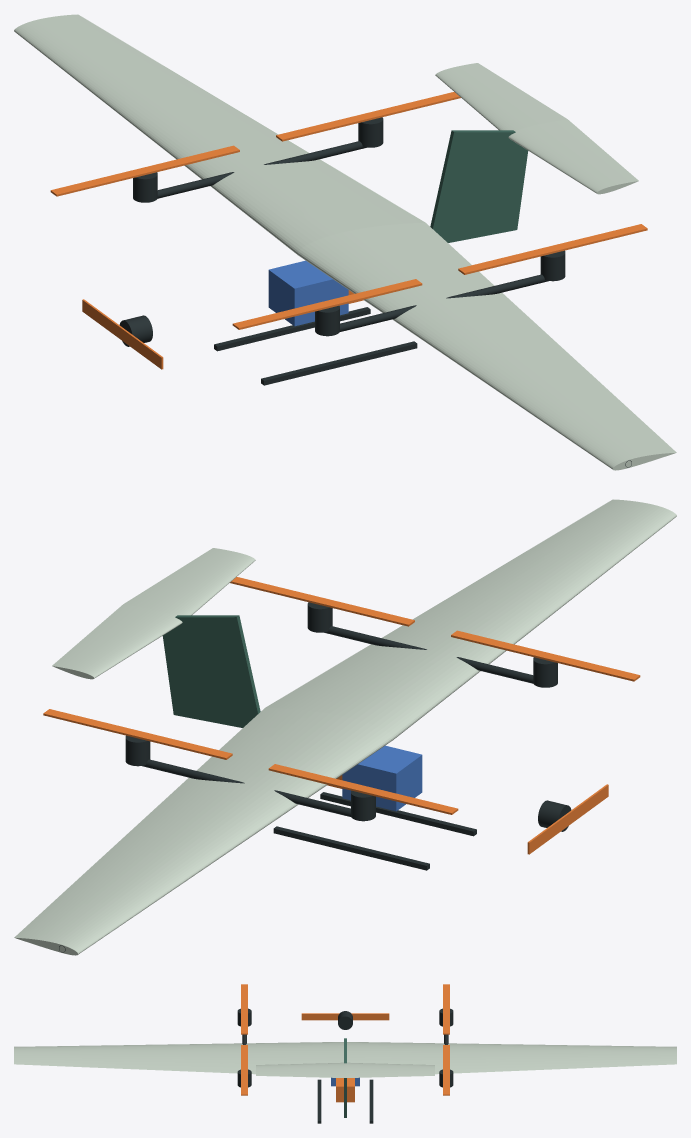
Rendered from 07-internal.glb.
The picture shows the model from 3 angles, top to bottom: view 1: azimuth 30°, elevation 25°; view 2: azimuth 150°, elevation 25°; view 3: azimuth 270°, elevation 25°; orthographic projection. The views are drawn at different scales.
Parts seen in each view (by area): view 1: wing-1, wing1, fin, tail-1, tail1, payload, prop_-1_200.0, prop_1_200.0, prop_-1_700.0, prop_1_700.0, boom-1, boom1 (+7 smaller); view 2: wing1, wing-1, fin, tail1, tail-1, payload, prop_1_200.0, prop_-1_200.0, prop_1_700.0, prop_-1_700.0, boom-1, boom1 (+7 smaller); view 3: wing-1, wing1, tail-1, tail1, cruise_prop, battery, prop_-1_200.0, prop_-1_700.0, prop_1_200.0, prop_1_700.0, cruise_motor.
Boxes of the visible parts, x1,y1,x2,y2 form: wing-1: (297,222,676,470); wing1: (14,14,424,254); fin: (430,130,528,242); tail-1: (508,119,638,194); tail1: (435,63,567,130); payload: (268,260,348,326); prop_-1_200.0: (232,279,422,329); prop_1_200.0: (50,145,239,196); prop_-1_700.0: (458,224,647,274); prop_1_700.0: (276,92,460,141); boom-1: (340,274,548,331); boom1: (157,141,366,198); wing1: (14,707,393,955); wing-1: (266,499,676,739); fin: (162,615,260,727); tail1: (52,604,182,679); tail-1: (123,548,255,615); payload: (342,745,422,811); prop_1_200.0: (268,764,458,814); prop_-1_200.0: (451,630,640,681); prop_1_700.0: (43,709,232,759); prop_-1_700.0: (230,577,414,626); boom-1: (324,626,533,683); boom1: (142,759,350,816); wing-1: (14,1042,343,1074); wing1: (347,1042,676,1074); tail-1: (256,1062,345,1077); tail1: (345,1062,434,1077); cruise_prop: (301,1013,389,1020); battery: (336,1078,354,1102); prop_-1_200.0: (241,984,247,1034); prop_-1_700.0: (241,1045,247,1095); prop_1_200.0: (443,984,449,1034); prop_1_700.0: (443,1045,449,1095); cruise_motor: (338,1011,352,1029).
Size of the model in its own units: 989 by 390 by 2300.
